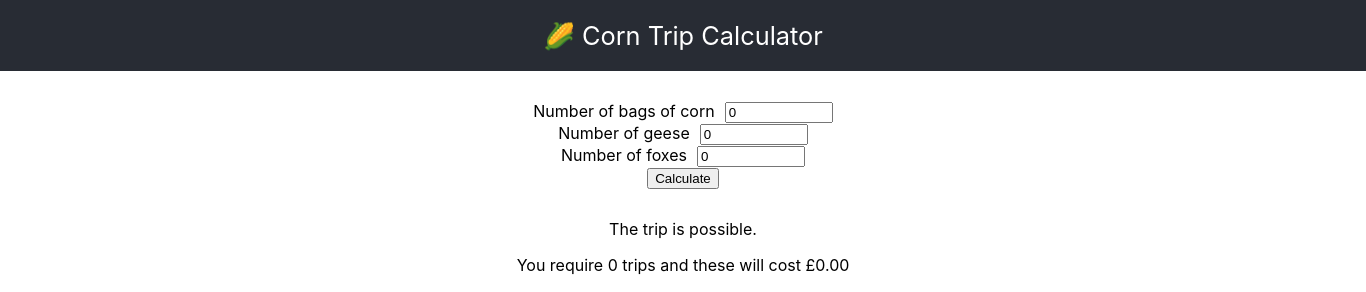
the user can input the number corn and be told the cost of transport
Replace the text in the number field labelled "Number of bags of corn" with "1": (779, 112) [725, 102, 833, 123]
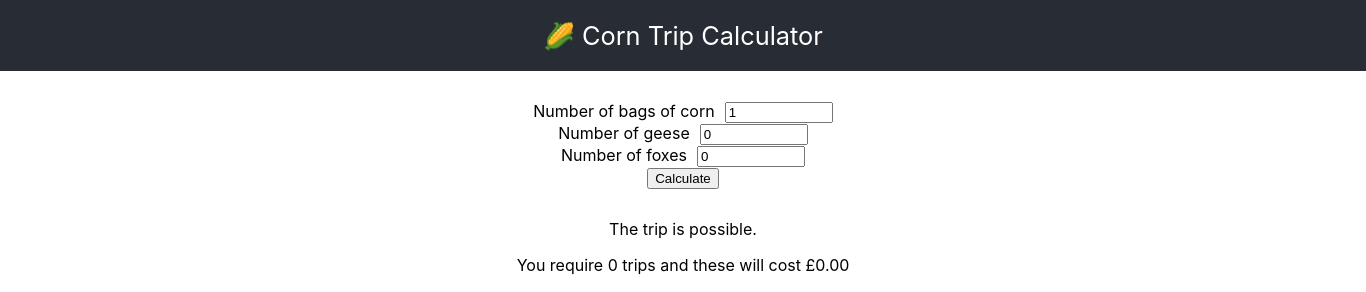
Click the button "Calculate": (683, 178) [647, 168, 719, 189]
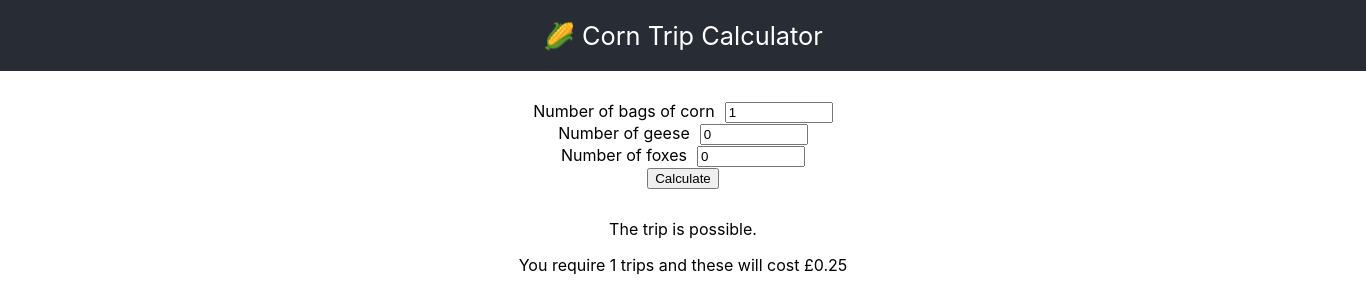
Expected: the text "£0.25" is shown, [804, 255, 847, 275]
